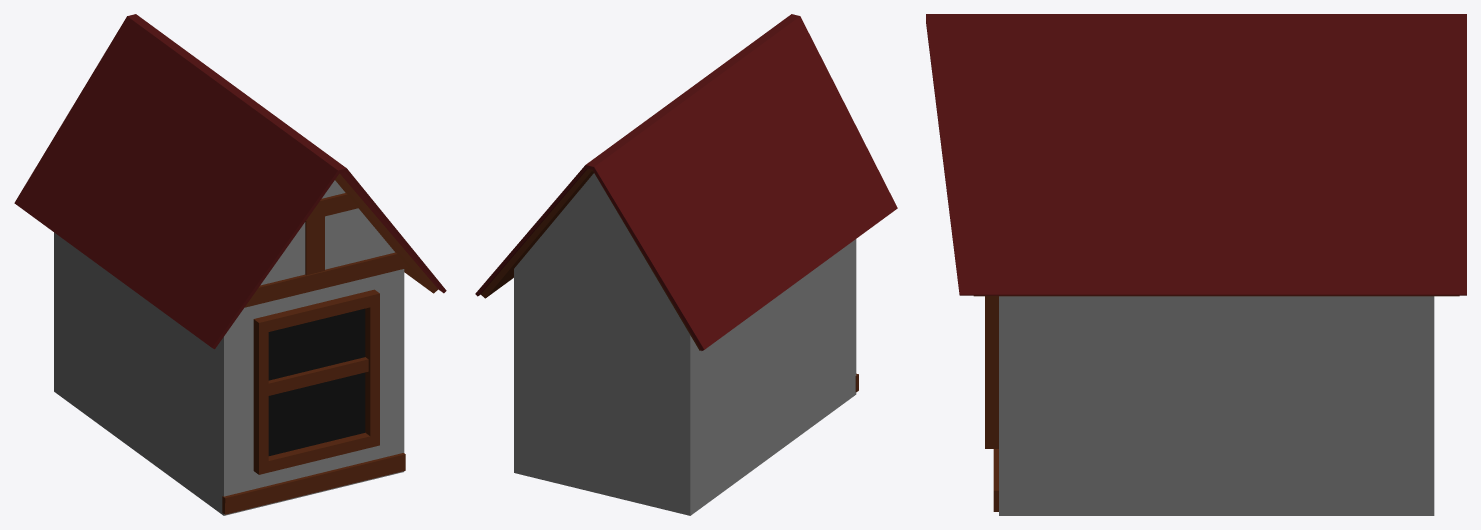
Rendered from SM_windowhouse_01.fbx.
3 views of the same model, side by side, from view 1: azimuth 30°, elevation 25°; view 2: azimuth 150°, elevation 25°; view 3: azimuth 270°, elevation 25° (orthographic). The views are drawn at different scales.
Parts seen in each view (by area): view 1: Object003; view 2: Object003; view 3: Object003.
Part boxes in pixels (box(x1,y1,x2,y2)): Object003: box(14, 14, 446, 515); Object003: box(475, 14, 897, 515); Object003: box(926, 14, 1466, 515).
Bounding box in the file's own units: 37.14 × 57.84 × 52.24.
